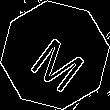M_NE: (21, 21, 89, 89)
